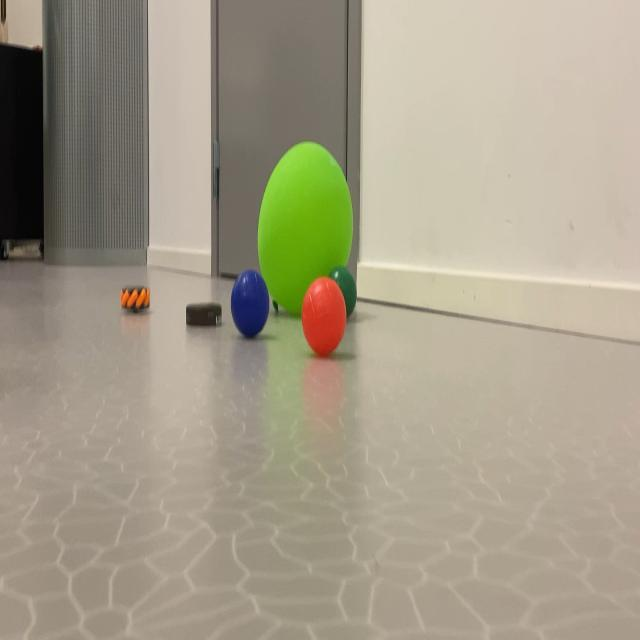blue ball: (238, 272, 269, 341)
green ball: (337, 268, 357, 292)
red ball: (291, 290, 353, 343)
